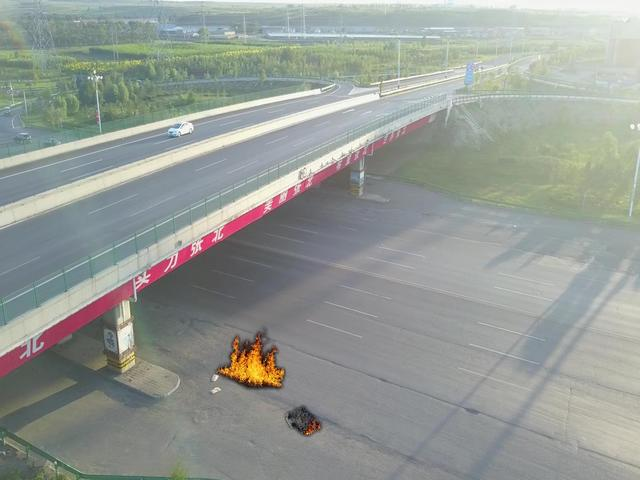fire: (213, 324, 287, 391), (284, 404, 322, 437)
